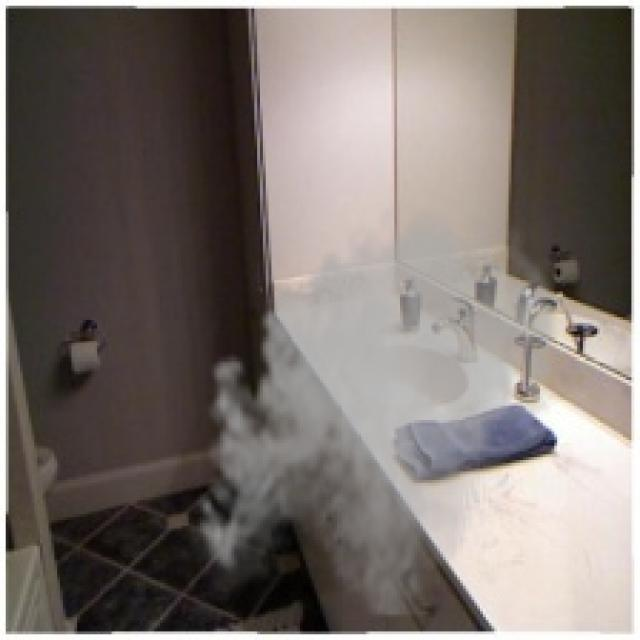smoke: (185, 194, 566, 620)
